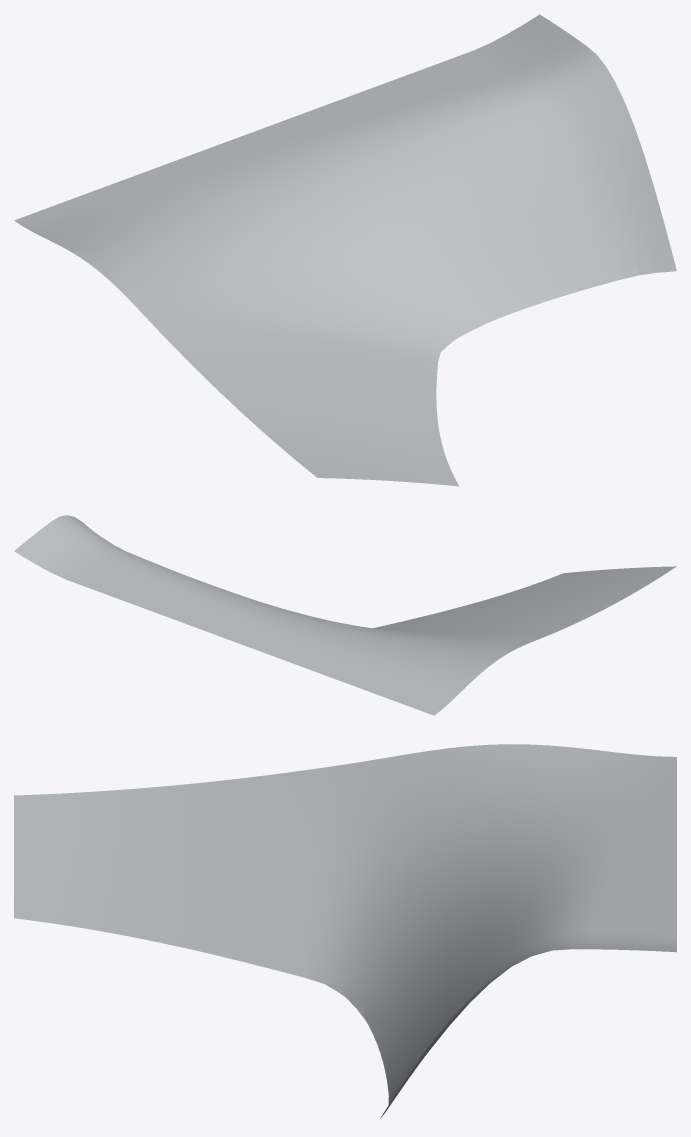
Rendered from alpine-10-3.glb.
The picture shows the model from 3 angles, top to bottom: view 1: azimuth 30°, elevation 25°; view 2: azimuth 150°, elevation 25°; view 3: azimuth 270°, elevation 25°; orthographic projection. The views are drawn at different scales.
Visible parts, largest first — view 1: alpine-10-3; view 2: alpine-10-3; view 3: alpine-10-3.
Boxes of the visible parts, box(x1,y1,x2,y2) form: alpine-10-3: box(14, 14, 676, 486); alpine-10-3: box(14, 515, 676, 715); alpine-10-3: box(14, 744, 676, 1119).
Bounding box in the file's own units: 256 × 73.95 × 256.
Materials: 1 (1 with a texture image).
